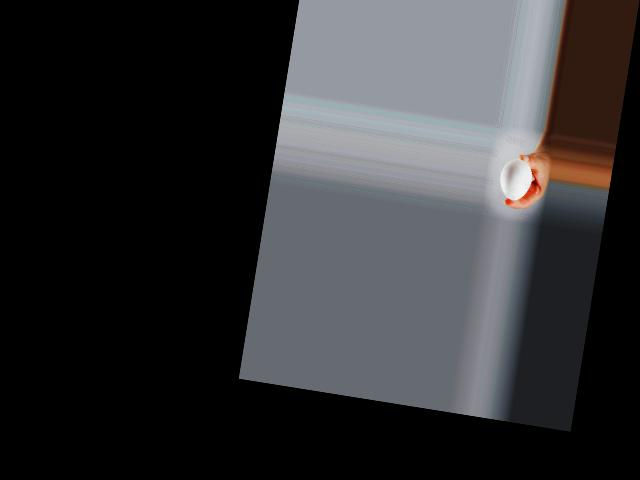egg: (497, 157, 534, 203)
